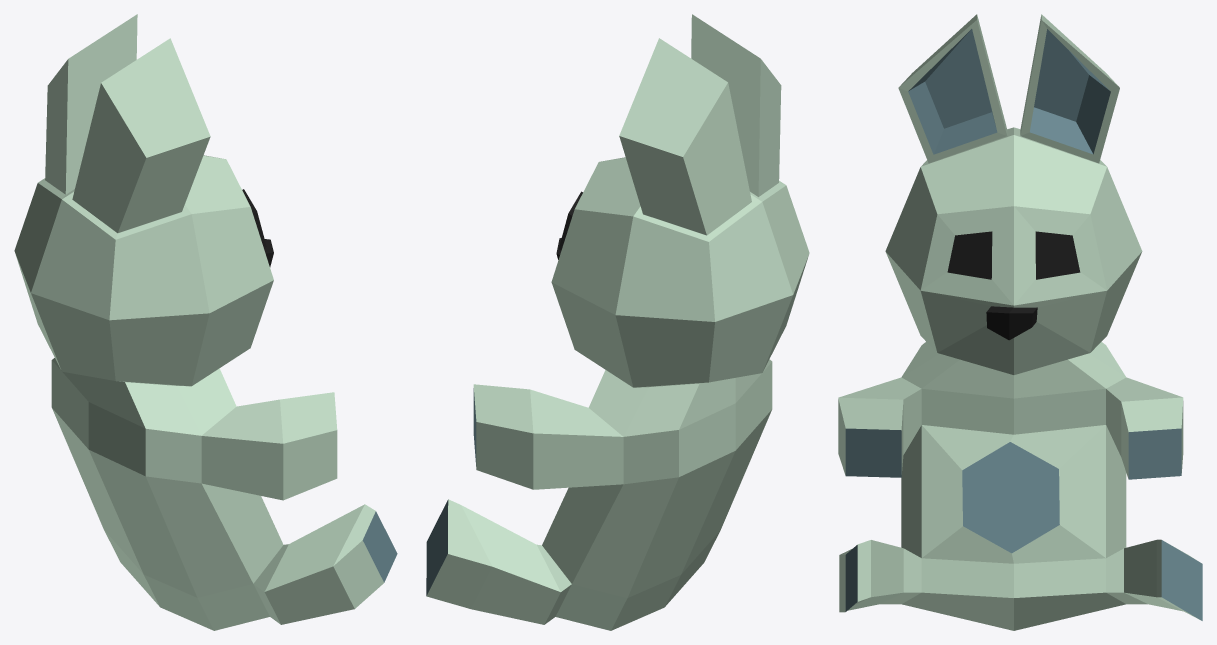
Rendered from TeddyBear.fbx.
The picture shows the model from 3 angles, left to right: view 1: azimuth 30°, elevation 25°; view 2: azimuth 150°, elevation 25°; view 3: azimuth 270°, elevation 25°; orthographic projection.
Visible parts, largest first — view 1: TeddyBear; view 2: TeddyBear; view 3: TeddyBear.
Boxes of the visible parts, x1,y1,x2,y2 form: TeddyBear: [14, 14, 397, 630]; TeddyBear: [426, 14, 809, 630]; TeddyBear: [838, 14, 1202, 630].
Size of the model in its own units: 0.7059 by 1.35 by 0.7742.
